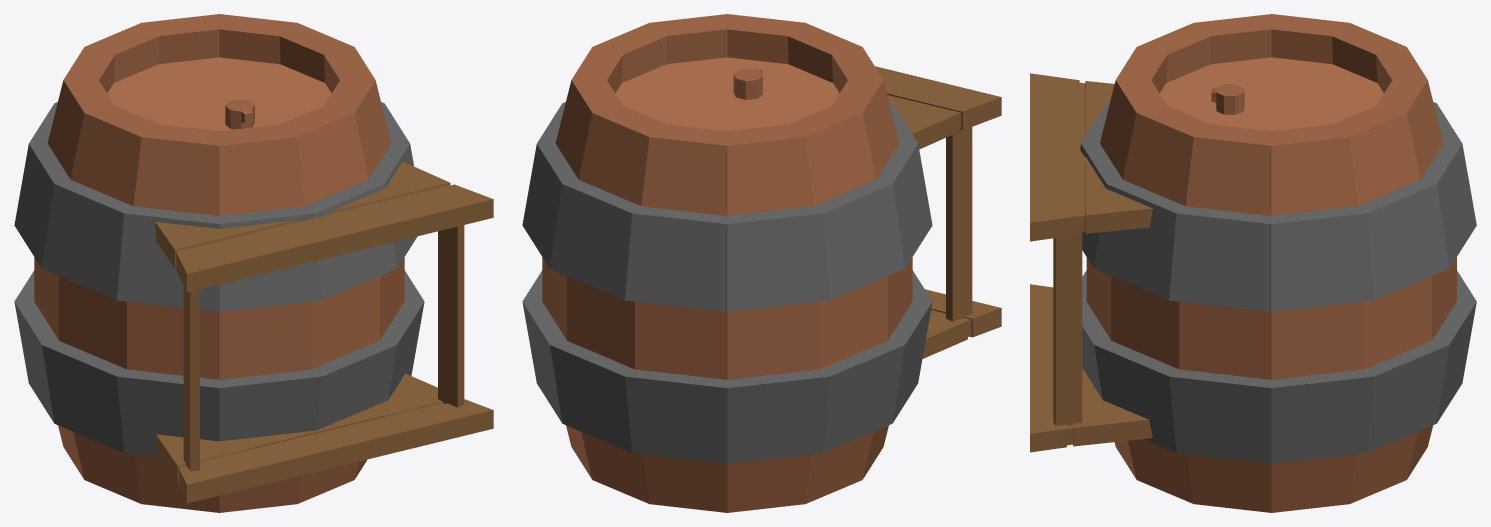
The model's file is barrel_wine.obj.
3 views of the same model, side by side, from view 1: azimuth 30°, elevation 25°; view 2: azimuth 150°, elevation 25°; view 3: azimuth 270°, elevation 25° (orthographic).
Visible parts, largest first — view 1: barrel_wine; view 2: barrel_wine; view 3: barrel_wine.
Boxes of the visible parts, bbox=[...] form: barrel_wine: bbox=[14, 14, 493, 512]; barrel_wine: bbox=[522, 14, 1001, 512]; barrel_wine: bbox=[1030, 14, 1476, 512].
Size of the model in its own units: 0.4317 by 0.4262 by 0.4701.
